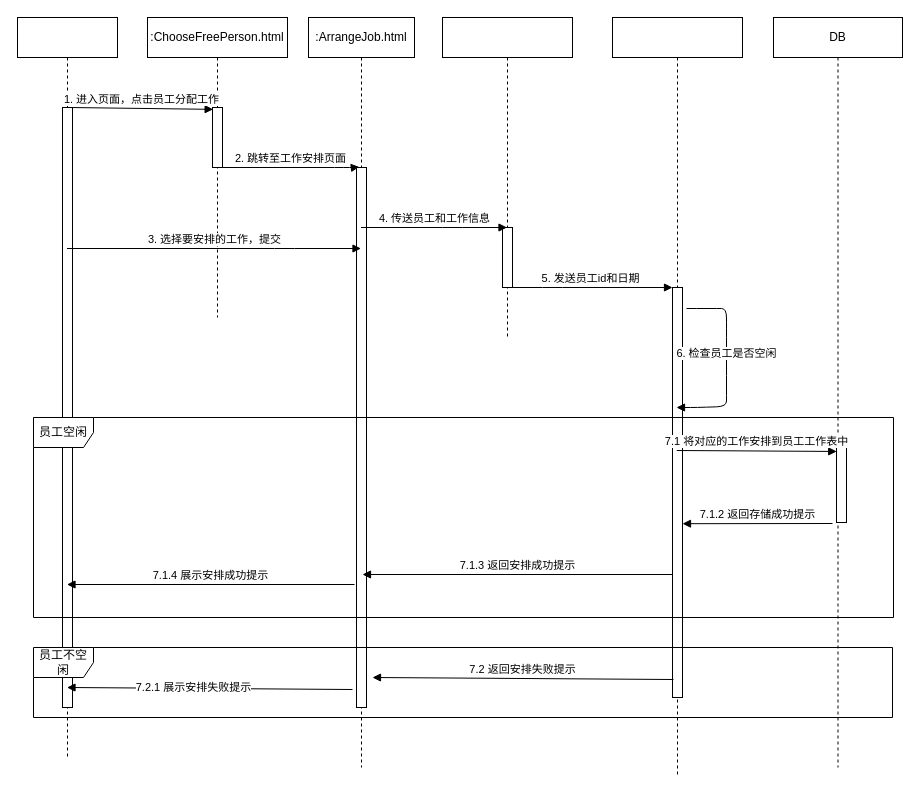
This 920x795 diagram has some shape labels left out. Each missing label, with the box of its shape:
:User: (16, 16, 118, 758)
:WorkflowInfoController: (442, 16, 572, 338)
:WorkflowInfoService: (612, 16, 742, 778)
